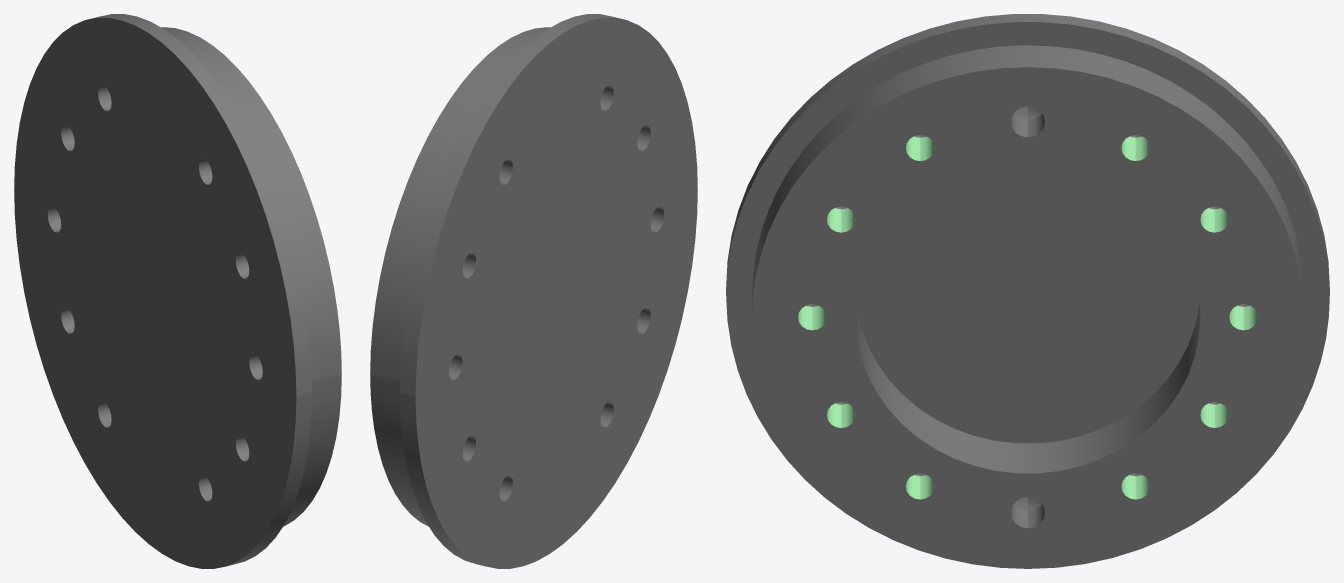
The picture shows the model from 3 angles, left to right: view 1: azimuth 30°, elevation 25°; view 2: azimuth 150°, elevation 25°; view 3: azimuth 270°, elevation 25°; orthographic projection. The views are drawn at different scales.
Visible parts, largest first — view 1: Mesh_0; view 2: Mesh_0; view 3: Mesh_0.
Part boxes in pixels (x1=…): Mesh_0: x1=14, y1=14, x2=341, y2=568; Mesh_0: x1=370, y1=14, x2=697, y2=568; Mesh_0: x1=726, y1=14, x2=1329, y2=568.
Bounding box in the file's own units: 0.0206 × 0.175 × 0.1749.
